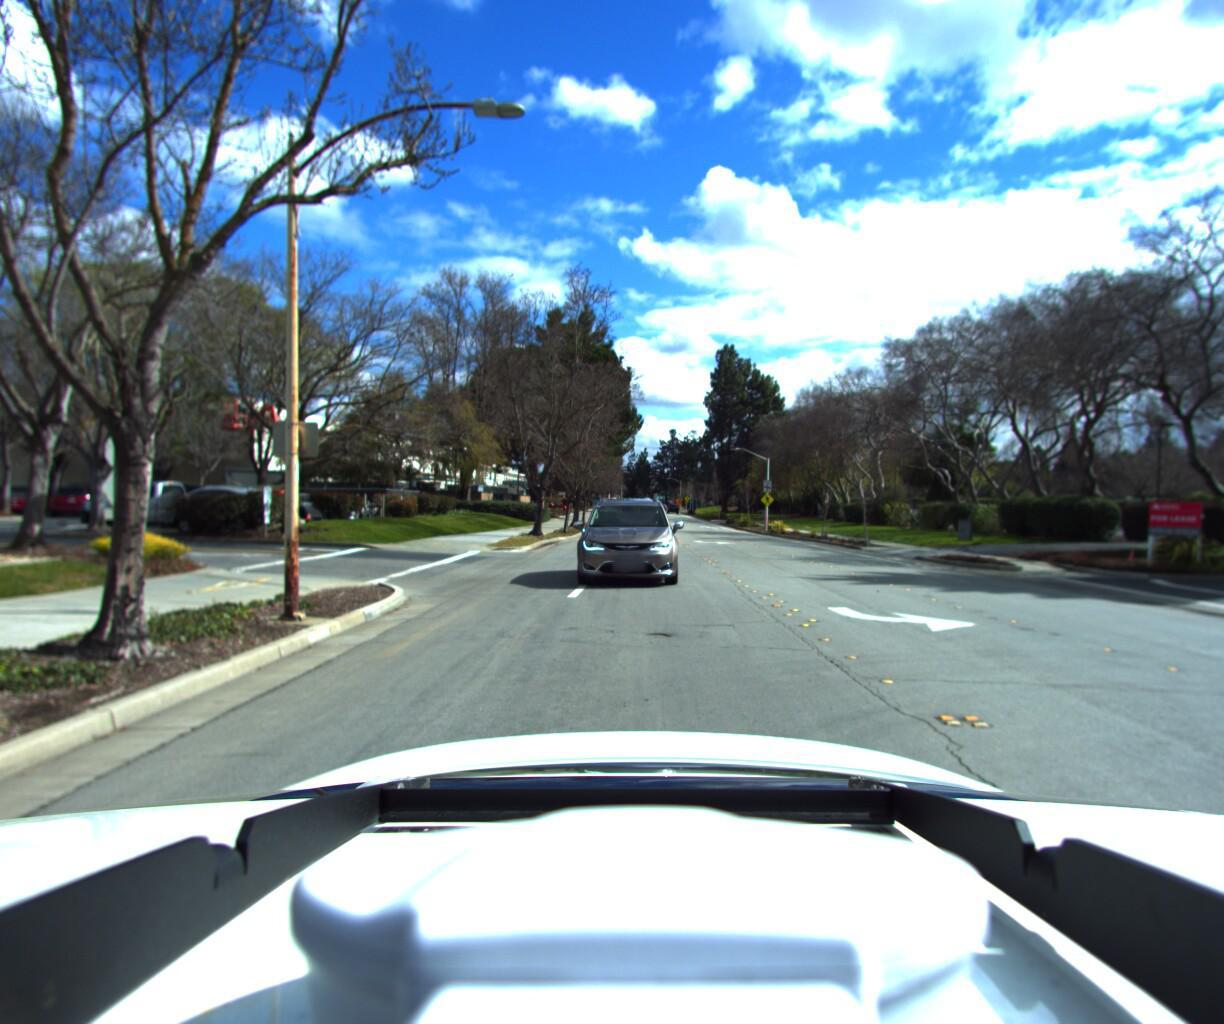car: (570, 493, 680, 595)
